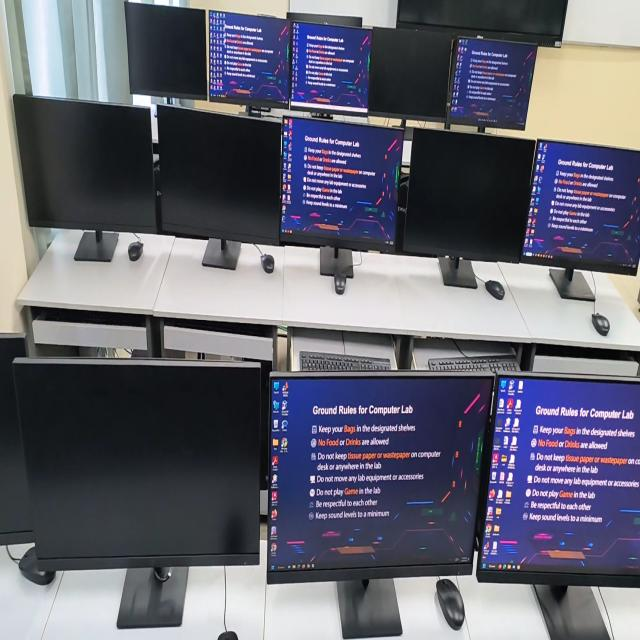Digital board: (396, 0, 567, 47)
Monitor: (13, 358, 261, 569), (268, 373, 494, 576), (476, 375, 640, 587), (13, 94, 156, 232), (396, 129, 535, 263), (158, 106, 282, 244), (281, 116, 402, 249), (523, 140, 640, 274), (450, 36, 537, 131), (125, 0, 206, 99), (369, 28, 453, 121), (209, 11, 290, 107), (291, 21, 372, 116), (0, 333, 33, 544), (287, 12, 362, 26)
Mouse: (8, 546, 55, 585), (436, 579, 465, 630), (592, 313, 610, 335), (486, 280, 504, 300), (128, 241, 143, 261), (334, 273, 347, 293), (261, 254, 274, 273), (217, 629, 238, 639)
